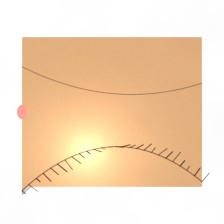pinguecula_lesion: (157, 99, 201, 135)
